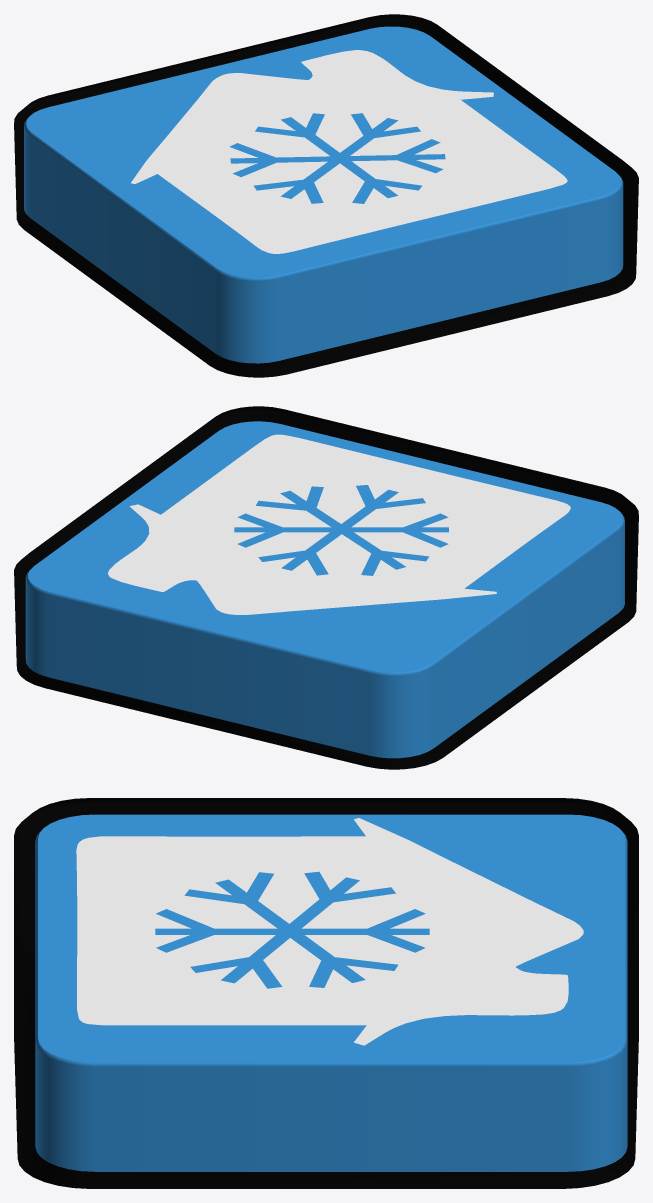
File: Aircondition.obj
The picture shows the model from 3 angles, top to bottom: view 1: azimuth 30°, elevation 25°; view 2: azimuth 150°, elevation 25°; view 3: azimuth 270°, elevation 25°; orthographic projection. The views are drawn at different scales.
Visible parts, largest first — view 1: Aircondition; view 2: Aircondition; view 3: Aircondition.
Boxes of the visible parts, <box> form: Aircondition: <box>14,14,638,377</box>; Aircondition: <box>14,406,638,769</box>; Aircondition: <box>14,798,638,1188</box>.
Size of the model in its own units: 1.06 by 0.2484 by 1.06.
